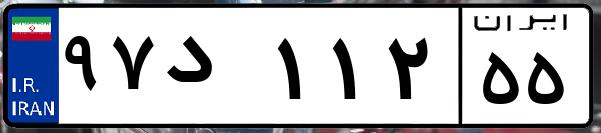1: (270, 28, 330, 110), (330, 28, 385, 110)
2: (385, 28, 445, 110)
5: (475, 38, 525, 113), (525, 38, 570, 115)
7: (110, 28, 158, 98)
9: (57, 26, 110, 100)
د: (158, 20, 270, 120)
